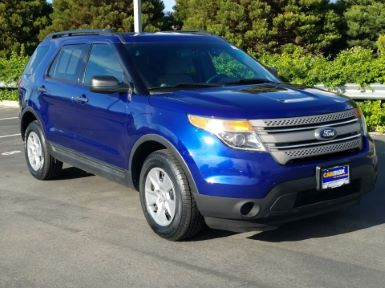Ford Explorer: (15, 27, 380, 246)
